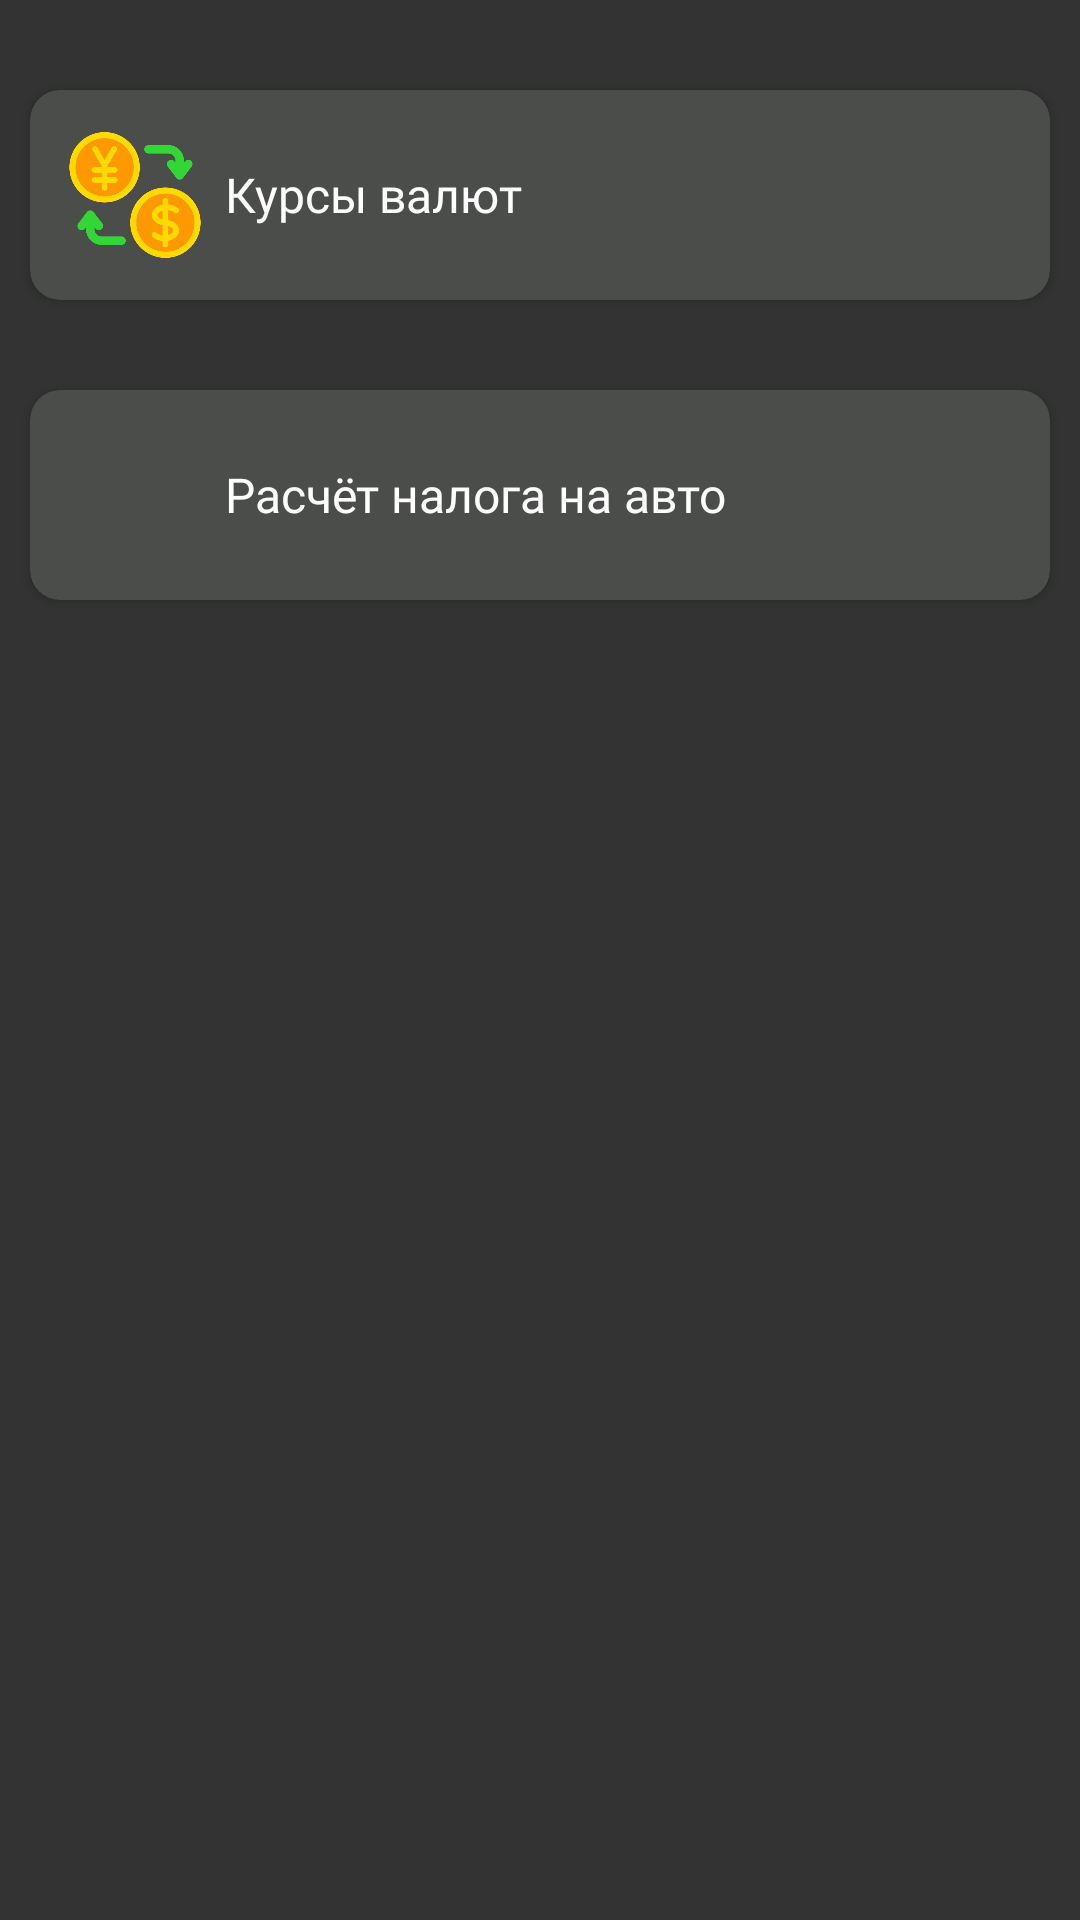

Where icons sit on this 1080*1920 app screen, as (x1, y1, x2, y2):
exchange: (69, 132, 201, 258)
